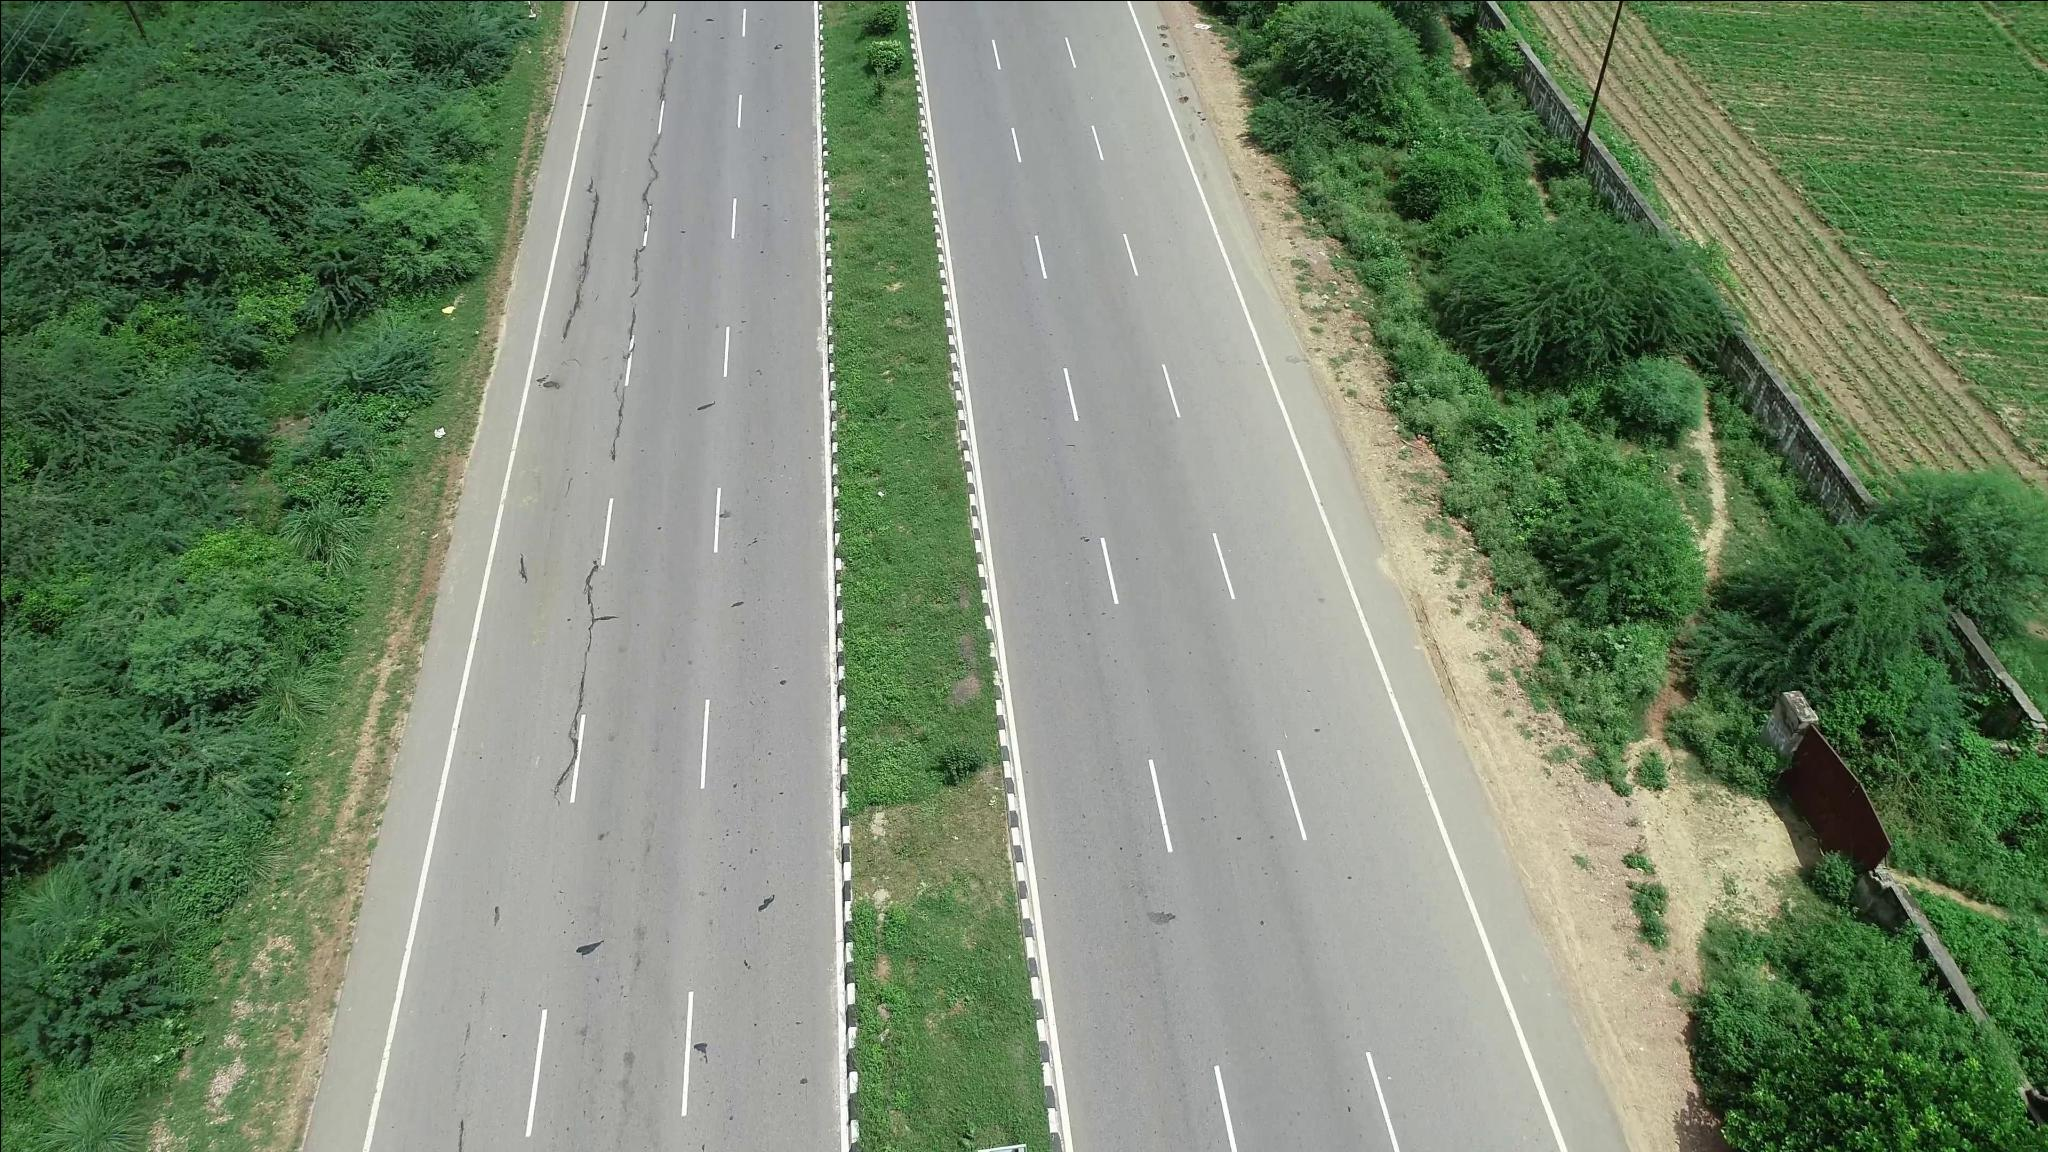Cracks: (608, 53, 672, 466), (537, 563, 615, 795), (551, 172, 619, 345)
